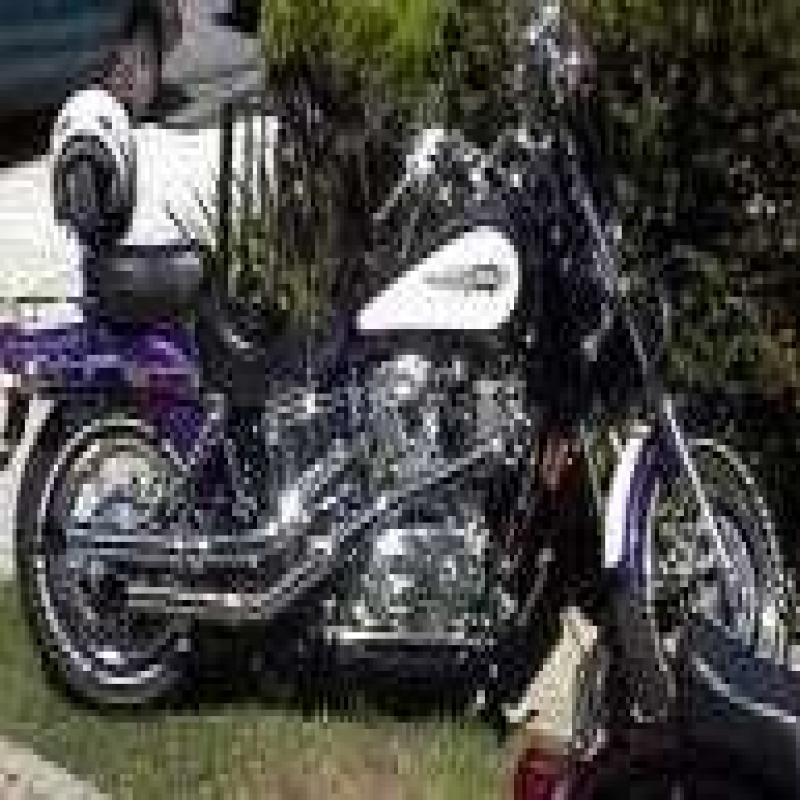bike: (30, 71, 781, 734)
